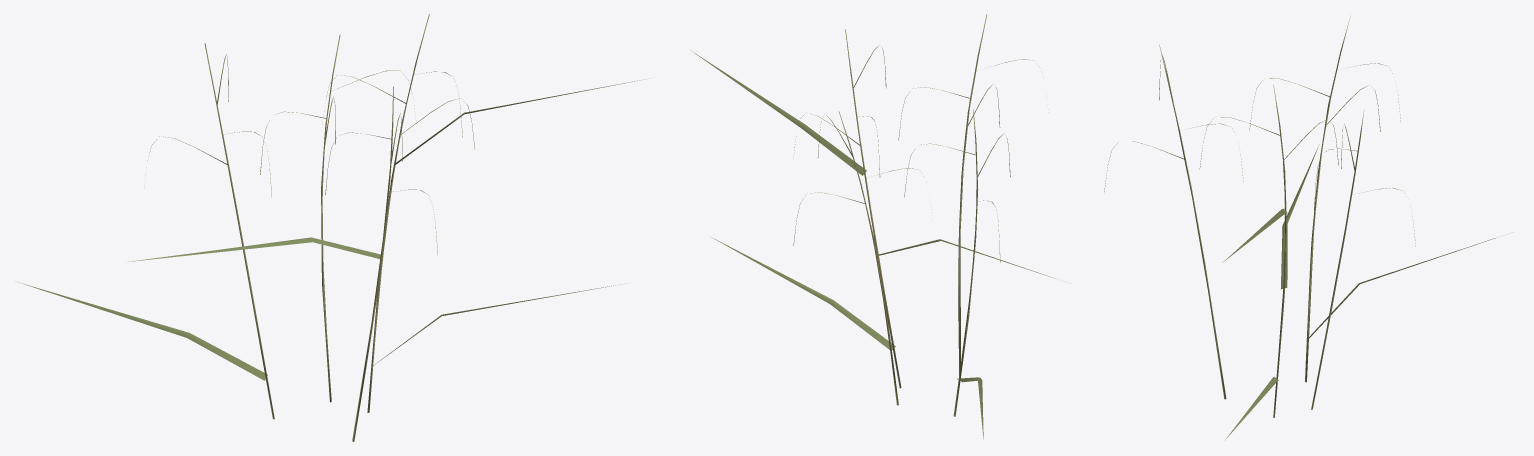
Rendered from Brize_0_Niveau2.fbx.
The picture shows the model from 3 angles, left to right: view 1: azimuth 30°, elevation 25°; view 2: azimuth 150°, elevation 25°; view 3: azimuth 270°, elevation 25°; orthographic projection. The views are drawn at different scales.
Visible parts, largest first — view 1: Brize_0_Niveau2; view 2: Brize_0_Niveau2; view 3: Brize_0_Niveau2.
Boxes of the visible parts, box(x1,y1,x2,y2) form: Brize_0_Niveau2: box(17, 14, 646, 441); Brize_0_Niveau2: box(690, 14, 1055, 439); Brize_0_Niveau2: box(1104, 16, 1495, 439).
Bounding box in the file's own units: 41.54 × 31.3 × 32.64.
